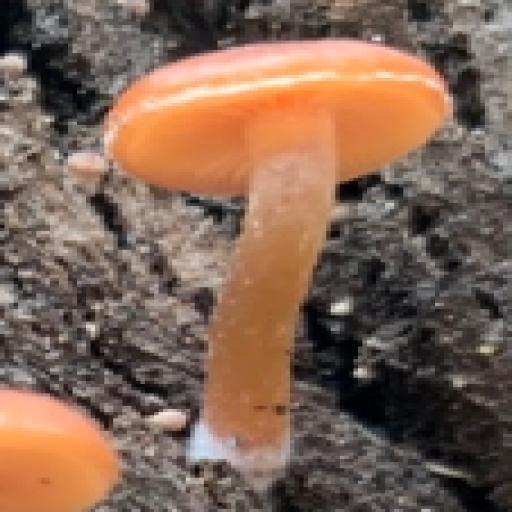mushroom: (93, 23, 458, 356)
